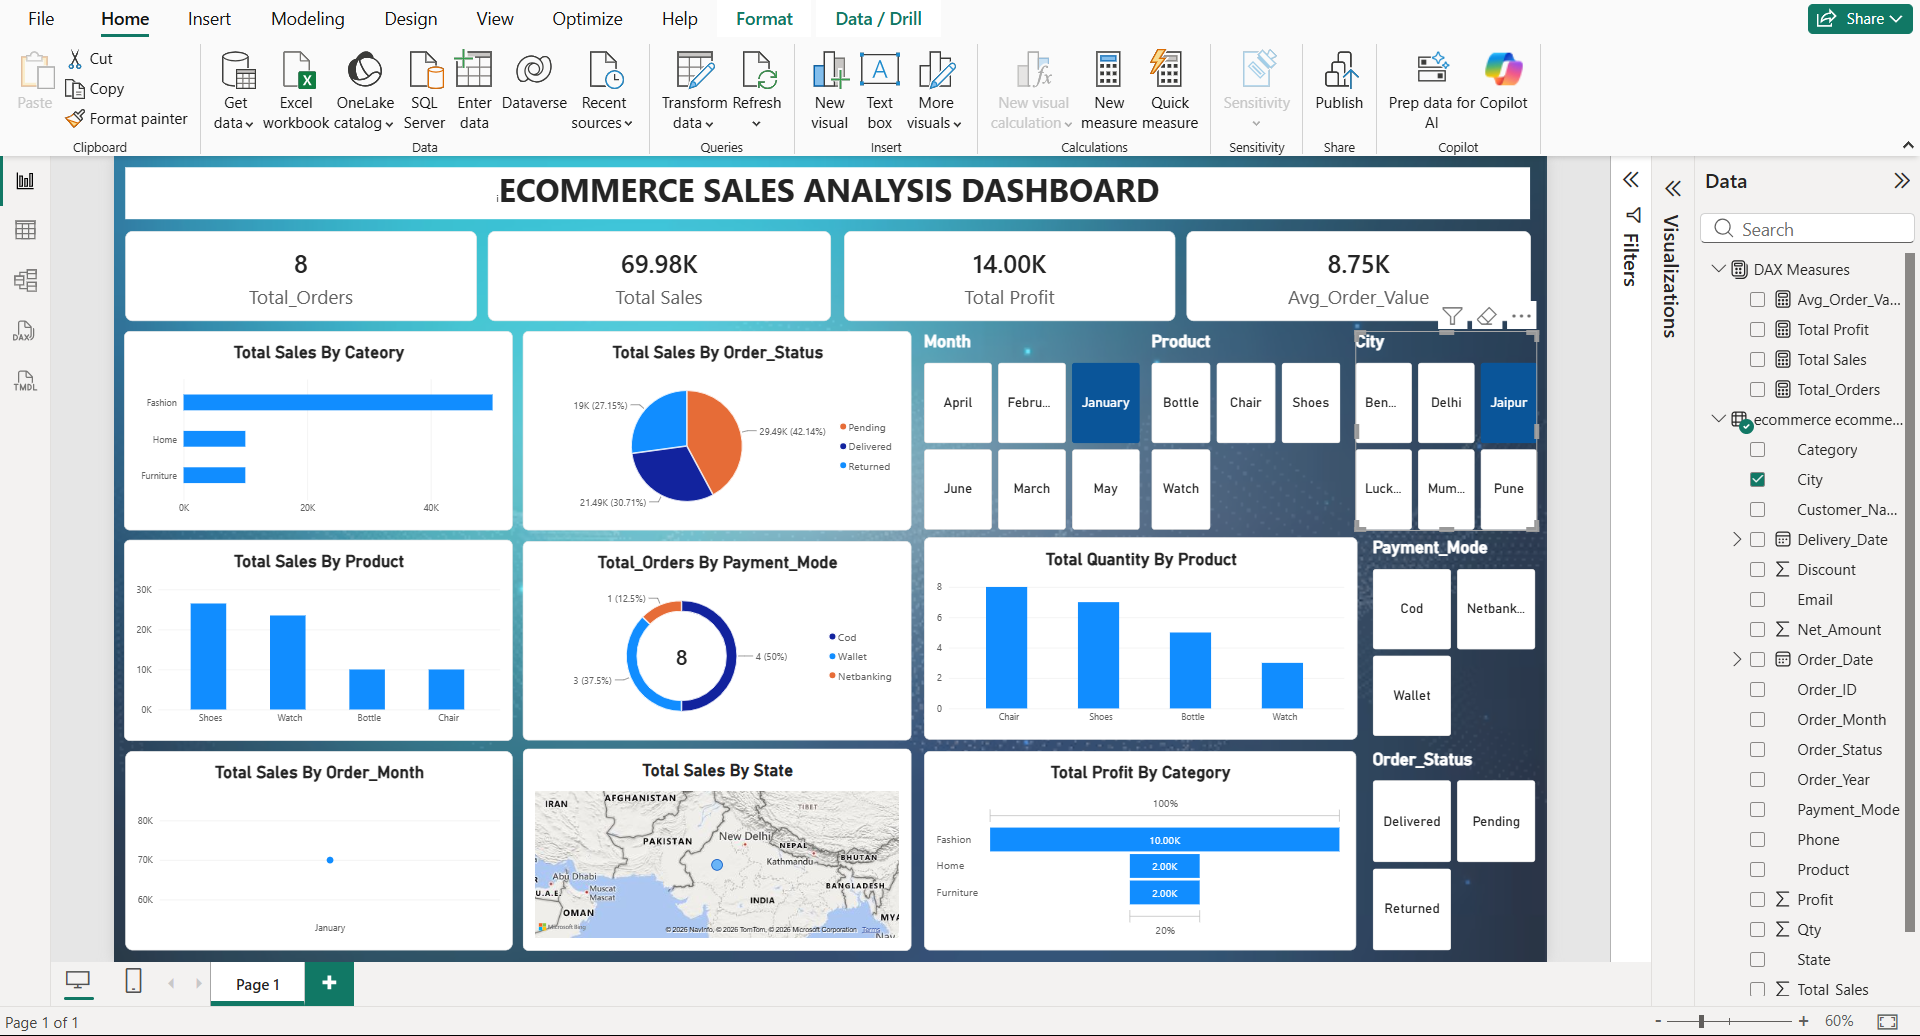

The page's visual inventory and layout, read from the dashboard file:
{"tool":"powerbi","page":{"name":"Page 1","canvas":[1920,1080],"ordinal":0},"visuals":[{"type":"card","fields":{"Values":["DAX Measures.Total_Orders"]},"box":[15.4,100,471.2,121.2],"z":0},{"type":"card","fields":{"Values":["DAX Measures.Total Sales"]},"box":[500,100,459.6,121.2],"z":1},{"type":"card","fields":{"Values":["DAX Measures.Total Profit"]},"box":[978.8,100,444.2,121.2],"z":2},{"type":"card","fields":{"Values":["DAX Measures.Avg_Order_Value"]},"box":[1436.5,100,461.5,121.2],"z":3},{"type":"lineChart","fields":{"Y":["DAX Measures.Total Sales"],"Category":["ecommerce ecommerce_data.Order_Month"]},"box":[15.4,798.1,519.2,267.3],"z":4},{"type":"columnChart","fields":{"Y":["DAX Measures.Total Sales"],"Category":["ecommerce ecommerce_data.Product"]},"box":[13.5,513.5,521.2,269.2],"z":5},{"type":"columnChart","fields":{"Category":["ecommerce ecommerce_data.Product"],"Y":["Sum(ecommerce ecommerce_data.Qty)"]},"box":[1084.6,511.5,580.8,271.2],"z":6},{"type":"map","fields":{"Category":["ecommerce ecommerce_data.State","ecommerce ecommerce_data.City"],"Size":["DAX Measures.Total Sales"]},"box":[548.1,794.2,521.2,271.2],"z":7},{"type":"funnel","fields":{"Y":["DAX Measures.Total Profit"],"Category":["ecommerce ecommerce_data.Category"]},"box":[1084.6,798.1,578.8,267.3],"z":8},{"type":"donutChart","fields":{"Category":["ecommerce ecommerce_data.Payment_Mode"],"Y":["DAX Measures.Total_Orders"]},"box":[548.1,515.4,521.2,267.3],"z":9},{"type":"clusteredBarChart","fields":{"Category":["ecommerce ecommerce_data.Category"],"Y":["DAX Measures.Total Sales"]},"box":[13.5,234.6,521.2,267.3],"z":10},{"type":"pieChart","fields":{"Category":["ecommerce ecommerce_data.Order_Status"],"Y":["DAX Measures.Total Sales"]},"box":[548.1,234.6,521.2,267.3],"z":11},{"type":"advancedSlicerVisual","title":"Month","fields":{"Values":["ecommerce ecommerce_data.Order_Month"]},"box":[1084.6,234.6,290.4,267.3],"z":12},{"type":"advancedSlicerVisual","fields":{"Values":["ecommerce ecommerce_data.Order_Status"]},"box":[1686.5,794.2,219.2,271.2],"z":13},{"type":"advancedSlicerVisual","fields":{"Values":["ecommerce ecommerce_data.Payment_Mode"]},"box":[1686.5,511.5,219,267],"z":14},{"type":"advancedSlicerVisual","fields":{"Values":["ecommerce ecommerce_data.Product"]},"box":[1390.4,234.6,255.8,267.3],"z":15},{"type":"advancedSlicerVisual","fields":{"Values":["ecommerce ecommerce_data.City"]},"box":[1663.5,234.6,244.2,267.3],"z":16},{"type":"textbox","box":[100,100,300,300],"z":17},{"type":"textbox","box":[15.4,15.4,1882.7,69.2],"z":18}]}

Visuals, with their boxes on the page's 1920x1080 design canvas (x1, y1, x2, y2). These are canvas units, not pixel positions in the 1920x1036 screenshot, which may show the page scaled, cropped or inside an application window:
card - DAX Measures.Total_Orders: detection(15, 100, 487, 221)
card - DAX Measures.Total Sales: detection(500, 100, 960, 221)
card - DAX Measures.Total Profit: detection(979, 100, 1423, 221)
card - DAX Measures.Avg_Order_Value: detection(1436, 100, 1898, 221)
lineChart - DAX Measures.Total Sales x ecommerce ecommerce_data.Order_Month: detection(15, 798, 535, 1065)
columnChart - DAX Measures.Total Sales x ecommerce ecommerce_data.Product: detection(14, 514, 535, 783)
columnChart - ecommerce ecommerce_data.Product x Sum(ecommerce ecommerce_data.Qty): detection(1085, 512, 1665, 783)
map - ecommerce ecommerce_data.State x ecommerce ecommerce_data.City: detection(548, 794, 1069, 1065)
funnel - DAX Measures.Total Profit x ecommerce ecommerce_data.Category: detection(1085, 798, 1663, 1065)
donutChart - ecommerce ecommerce_data.Payment_Mode x DAX Measures.Total_Orders: detection(548, 515, 1069, 783)
clusteredBarChart - ecommerce ecommerce_data.Category x DAX Measures.Total Sales: detection(14, 235, 535, 502)
pieChart - ecommerce ecommerce_data.Order_Status x DAX Measures.Total Sales: detection(548, 235, 1069, 502)
"Month" advancedSlicerVisual: detection(1085, 235, 1375, 502)
advancedSlicerVisual - ecommerce ecommerce_data.Order_Status: detection(1686, 794, 1906, 1065)
advancedSlicerVisual - ecommerce ecommerce_data.Payment_Mode: detection(1686, 512, 1906, 778)
advancedSlicerVisual - ecommerce ecommerce_data.Product: detection(1390, 235, 1646, 502)
advancedSlicerVisual - ecommerce ecommerce_data.City: detection(1664, 235, 1908, 502)
textbox: detection(100, 100, 400, 400)
textbox: detection(15, 15, 1898, 85)
